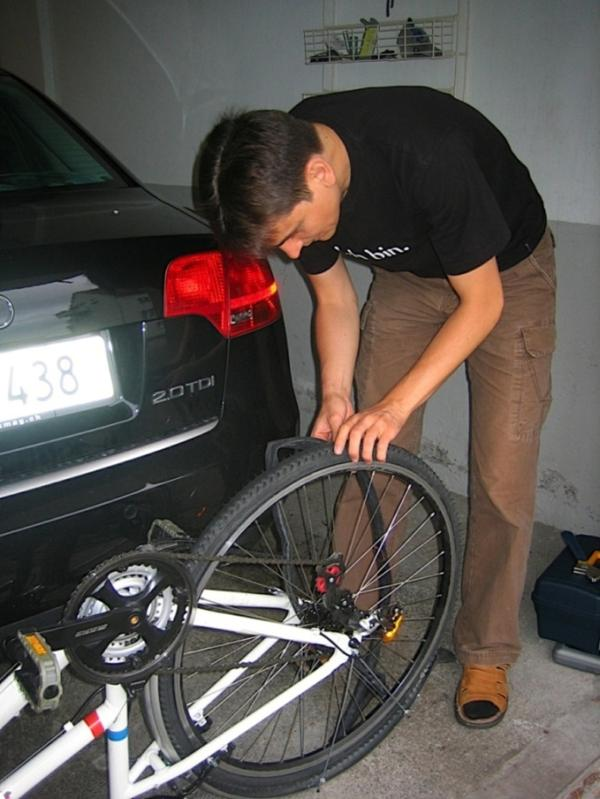person: (192, 83, 559, 733)
